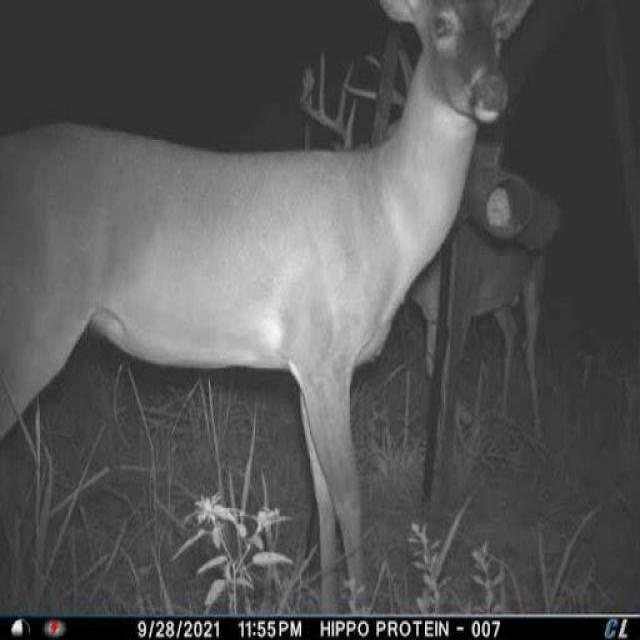deer: (4, 0, 547, 617), (295, 32, 559, 441)
